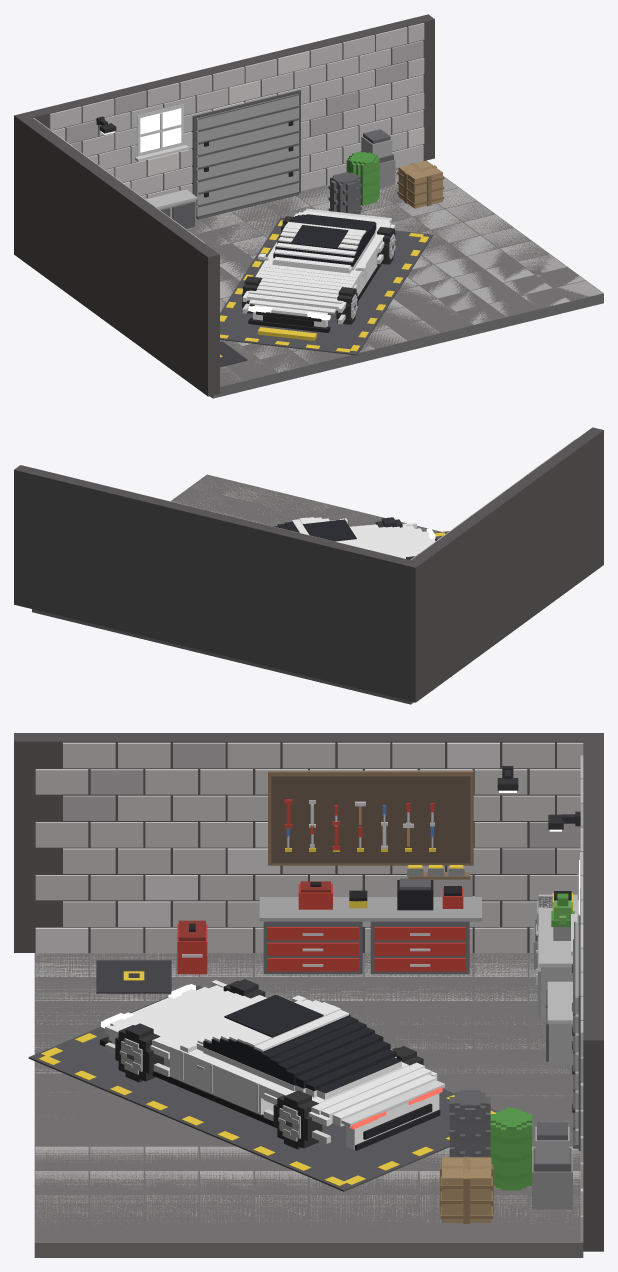
Rendered from garage.glb.
The picture shows the model from 3 angles, top to bottom: view 1: azimuth 30°, elevation 25°; view 2: azimuth 150°, elevation 25°; view 3: azimuth 270°, elevation 25°; orthographic projection. The views are drawn at different scales.
Parts seen in each view (by area): view 1: Garage; view 2: Garage; view 3: Garage.
Boxes of the visible parts, x1,y1,x2,y2 form: Garage: [14, 14, 603, 398]; Garage: [14, 427, 603, 704]; Garage: [14, 733, 603, 1257].
Bounding box in the file's own units: 10.6 × 3.64 × 8.6.
